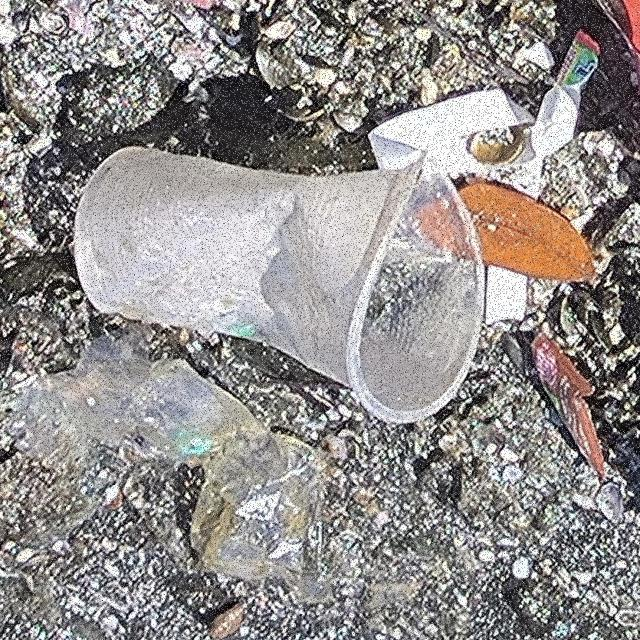plastic_waste: (76, 147, 487, 427)
